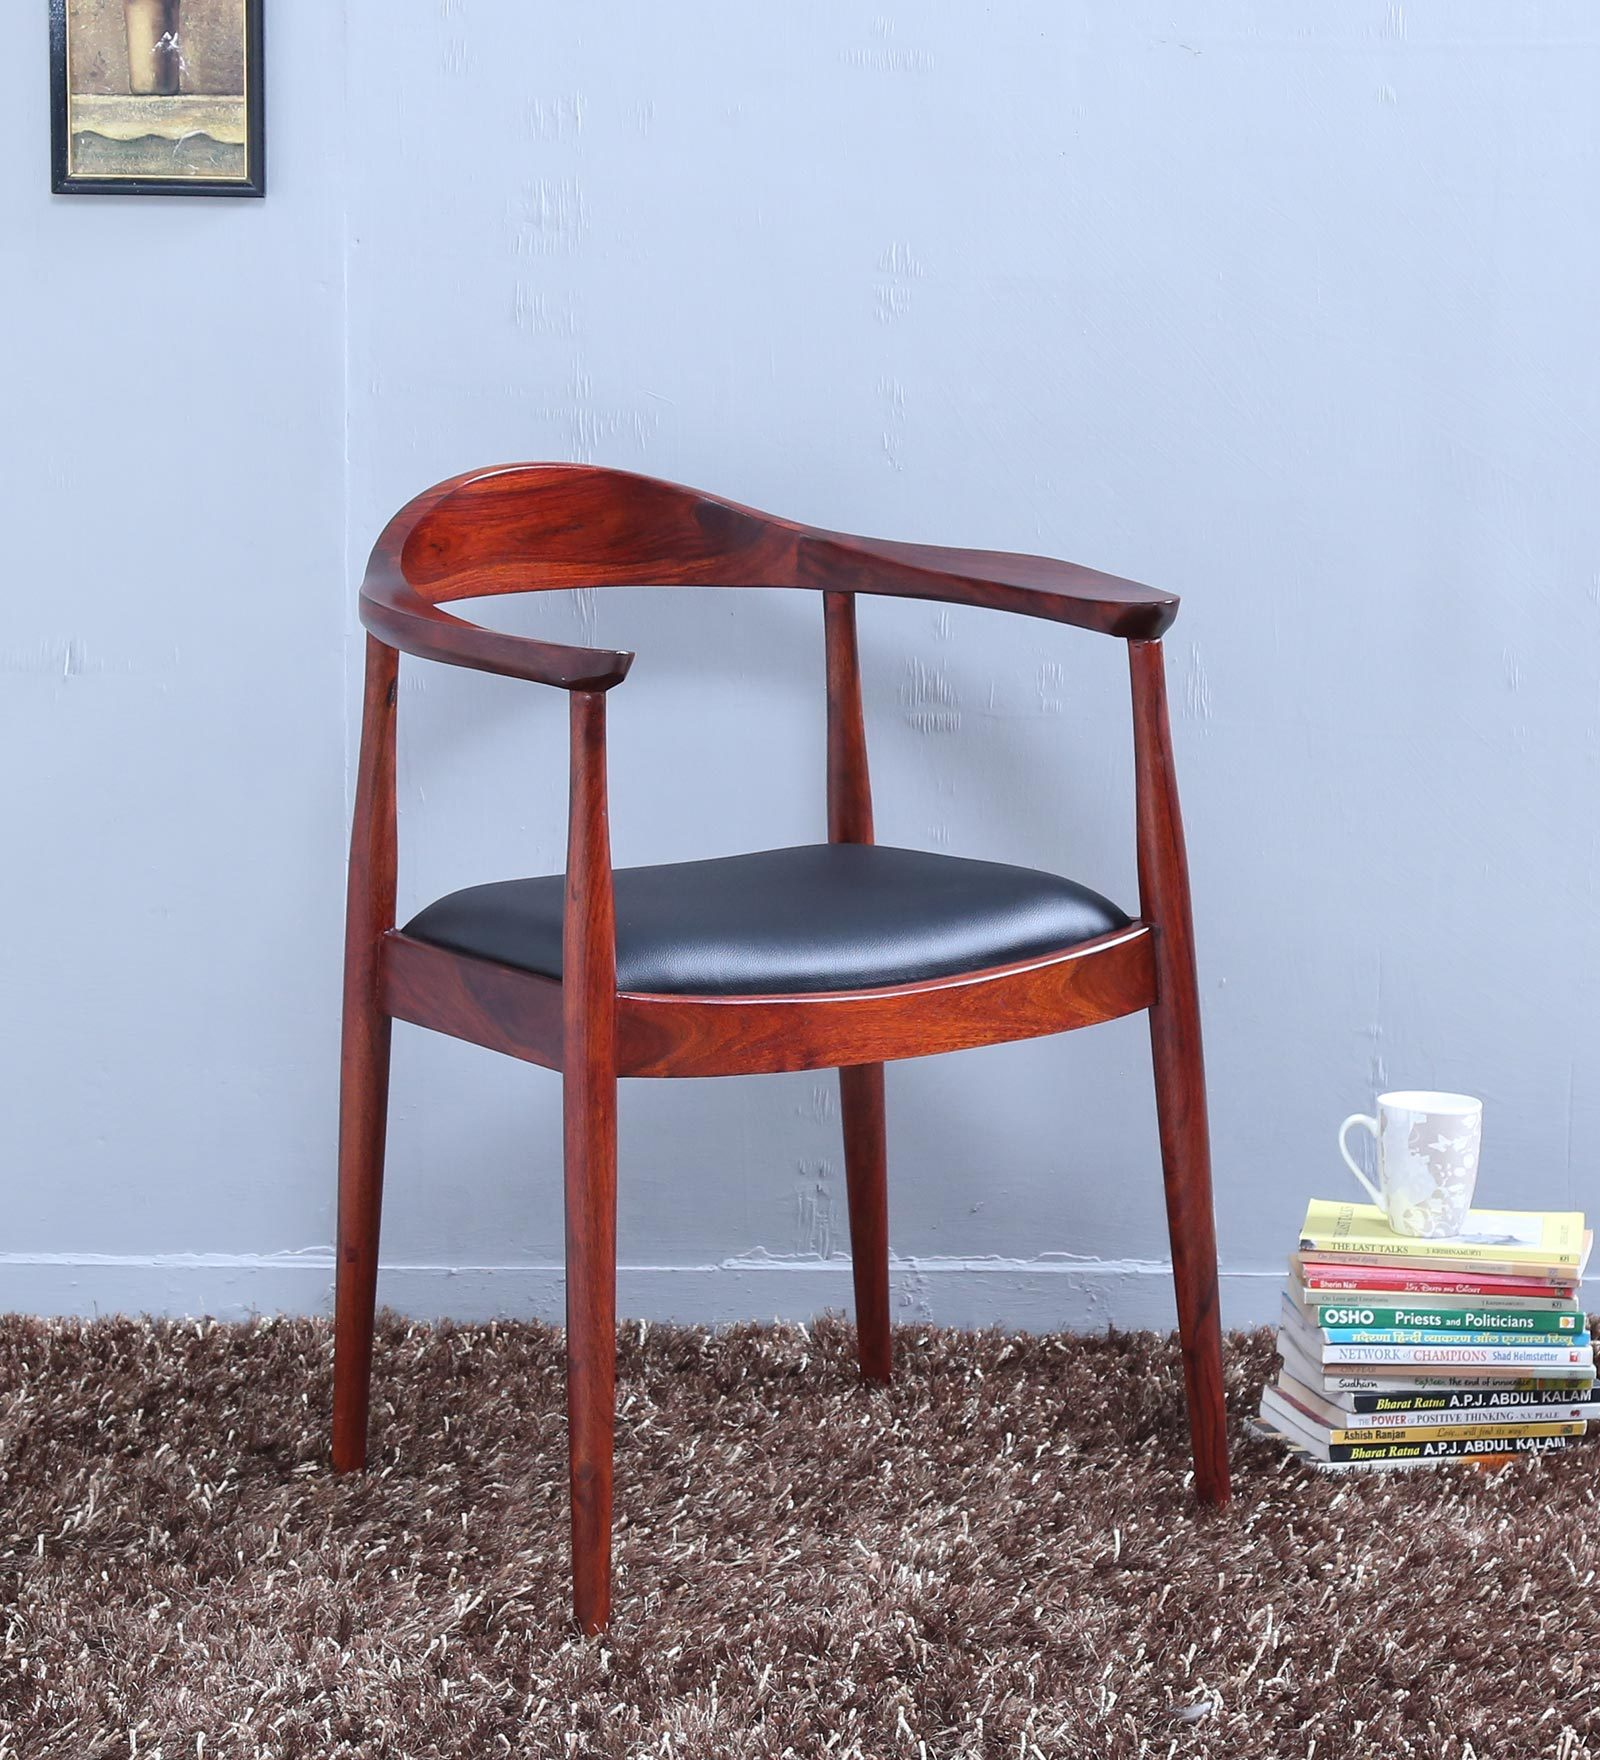Esvelt Arm Chair in Honey Oak Finish by Woodsworth: (293, 448, 1277, 1653)
